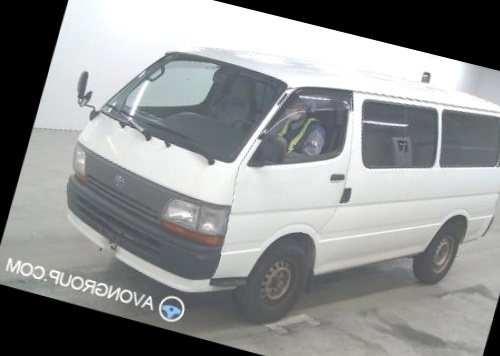van: (33, 0, 500, 356)
